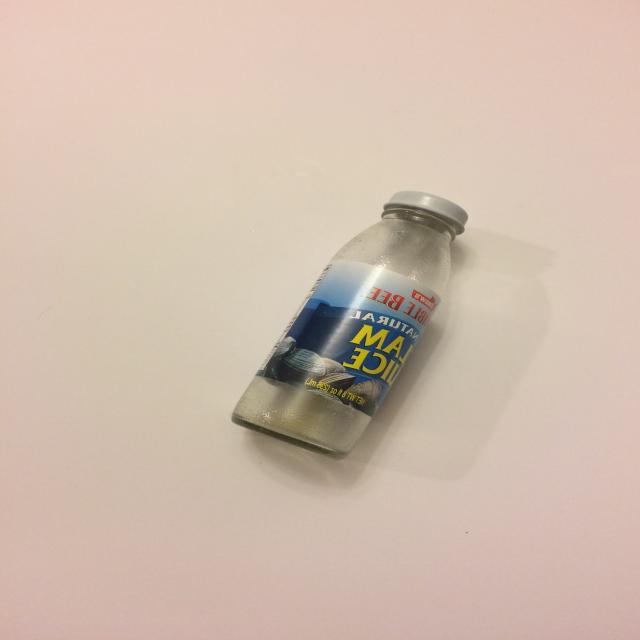glass: (230, 189, 470, 459)
